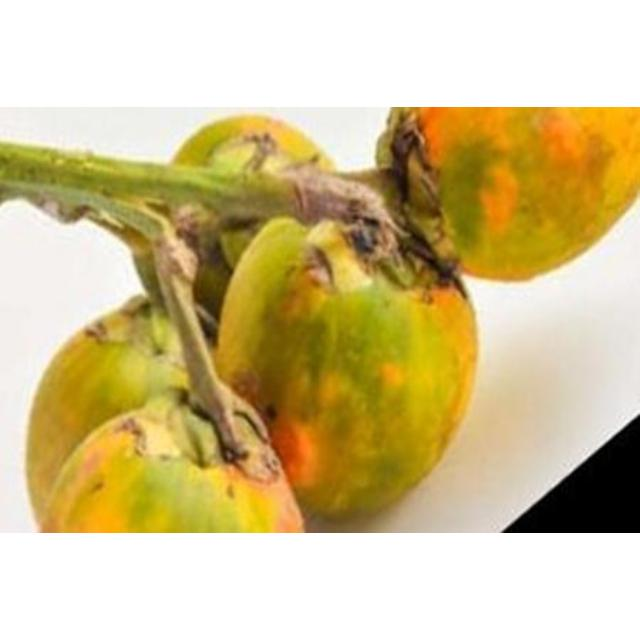good: (213, 207, 472, 521), (24, 294, 300, 532), (386, 109, 636, 284), (164, 115, 334, 322), (172, 113, 330, 177)
